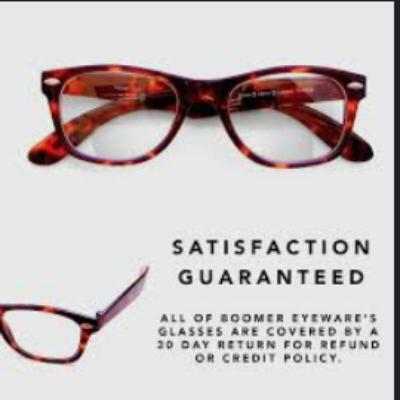glasses: (24, 57, 376, 177)
